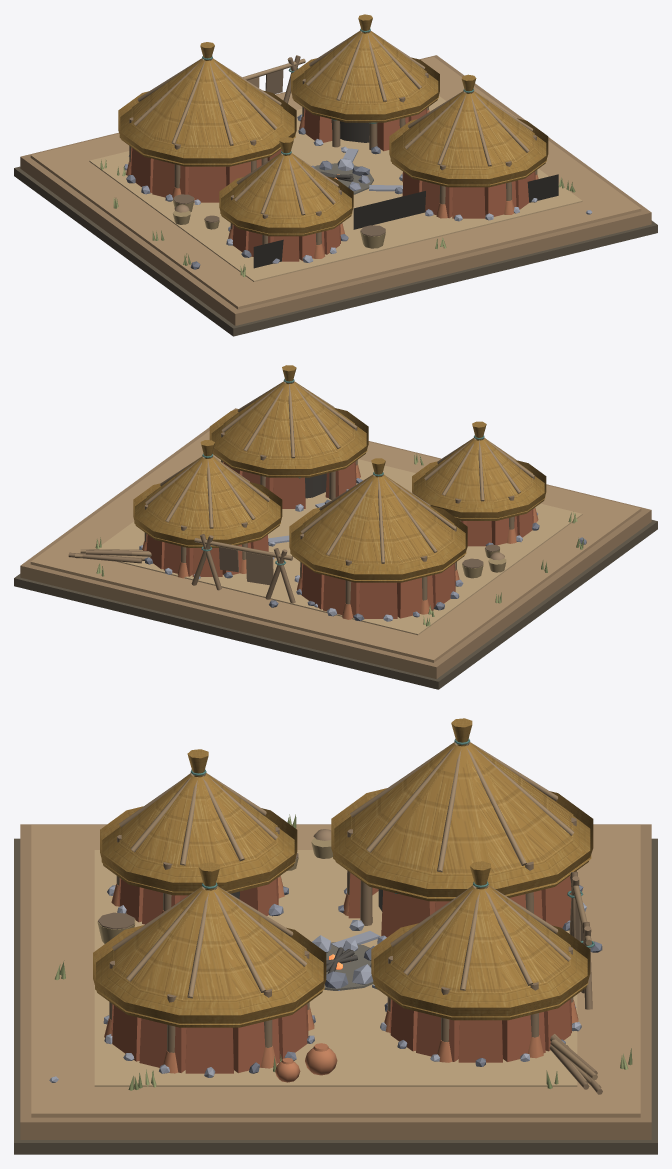
Rendered from num-2-built.glb.
The picture shows the model from 3 angles, top to bottom: view 1: azimuth 30°, elevation 25°; view 2: azimuth 150°, elevation 25°; view 3: azimuth 270°, elevation 25°; orthographic projection. The views are drawn at different scales.
Visible parts, largest first — view 1: era1, Era1DepthKit; view 2: era1, Era1DepthKit; view 3: era1, Era1DepthKit.
Part boxes in pixels (x1,y1,x2,y2): era1: (20, 14, 651, 325); Era1DepthKit: (14, 166, 657, 336); era1: (20, 365, 651, 678); Era1DepthKit: (14, 520, 657, 689); era1: (20, 718, 651, 1139); Era1DepthKit: (14, 838, 657, 1154).
Bounding box in the file's own units: 19.38 × 6.52 × 17.34.
Materials: 37 (10 with a texture image).
